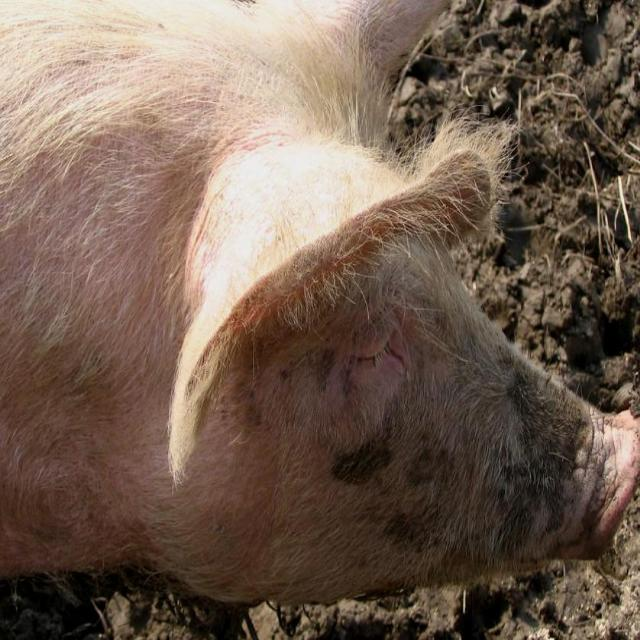pig: (0, 3, 640, 601)
